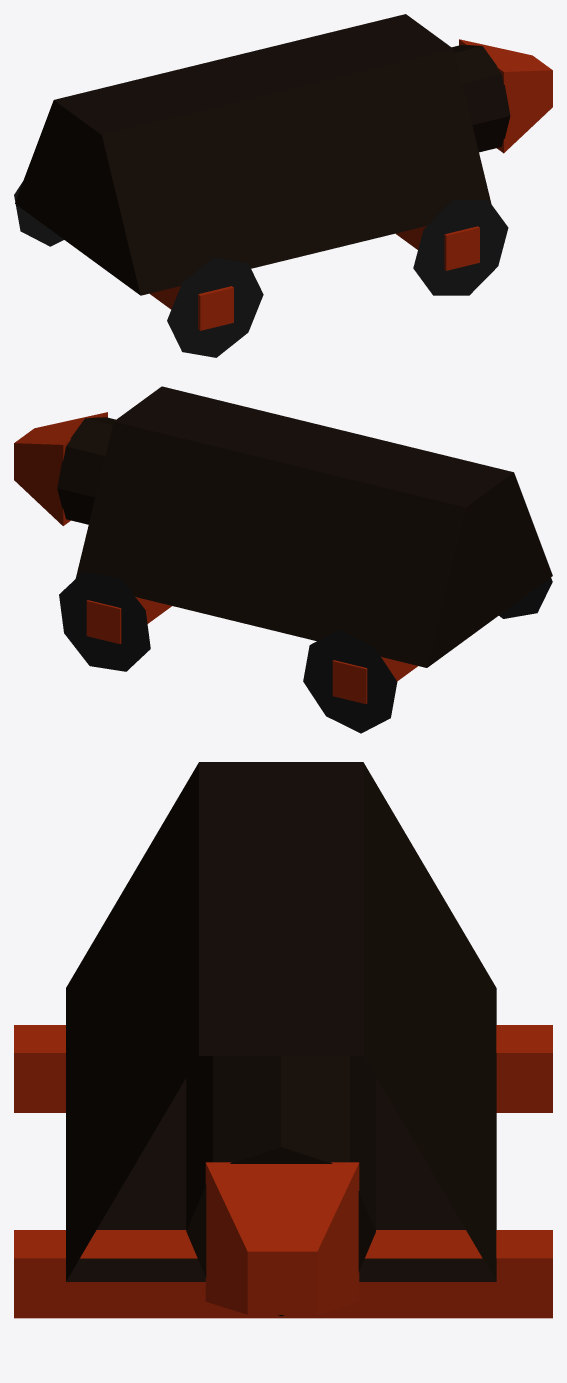
File: heavybatteringram2.obj
The picture shows the model from 3 angles, top to bottom: view 1: azimuth 30°, elevation 25°; view 2: azimuth 150°, elevation 25°; view 3: azimuth 270°, elevation 25°; orthographic projection. The views are drawn at different scales.
Visible parts, largest first — view 1: Cube, Plane.003, Plane.002, Cube.003, Cube.002, Cube.001, Plane.001; view 2: Cube, Plane.001, Plane, Cube.003, Cube.001, Cube.002, Plane.002; view 3: Cube, Cube.001, Cube.003, Cube.002.
Boxes of the visible parts, x1,y1,x2,y2 form: Cube: (15,14,510,295); Plane.003: (413,200,508,295); Plane.002: (167,257,263,357); Cube.003: (459,39,552,153); Cube.002: (150,286,233,330); Cube.001: (396,226,479,270); Plane.001: (14,182,63,246); Cube: (57,386,552,667); Plane.001: (303,629,397,733); Plane: (59,571,150,671); Cube.003: (14,412,107,525); Cube.001: (86,597,171,643); Cube.002: (332,656,417,704); Plane.002: (499,577,552,618); Cube: (66,762,496,1316); Cube.001: (14,1230,552,1318); Cube.003: (205,1162,359,1314); Cube.002: (14,1025,552,1112).
Bounding box in the file's own units: 10.17 × 4.18 × 5.96.
